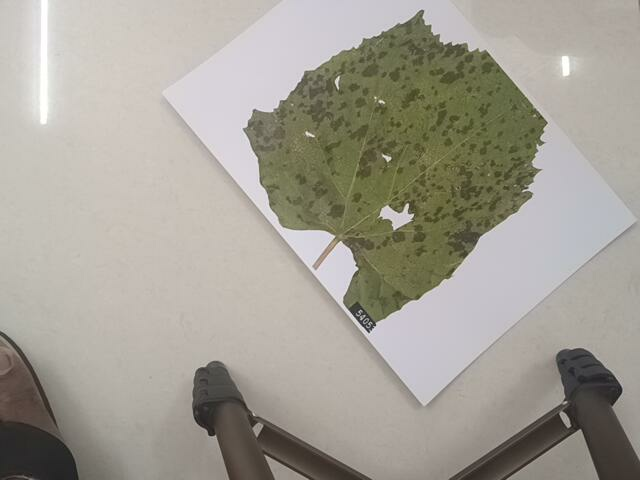Grape_Blight_Leaf: (242, 5, 566, 328)
